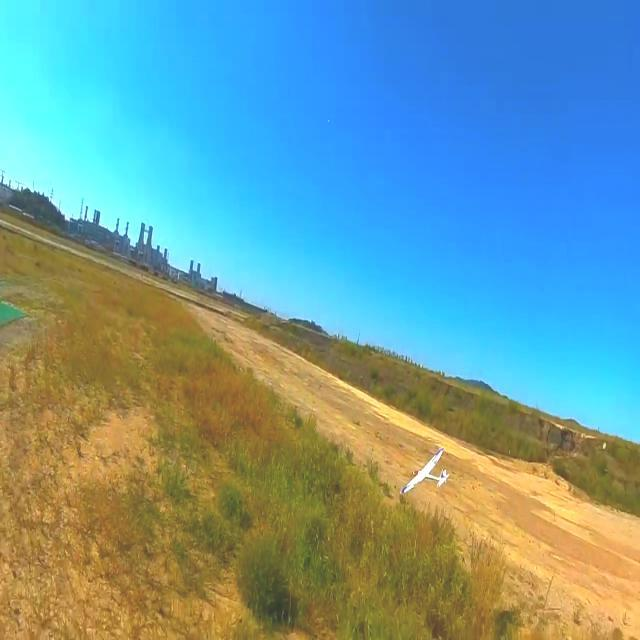iha: (430, 444, 435, 504)
